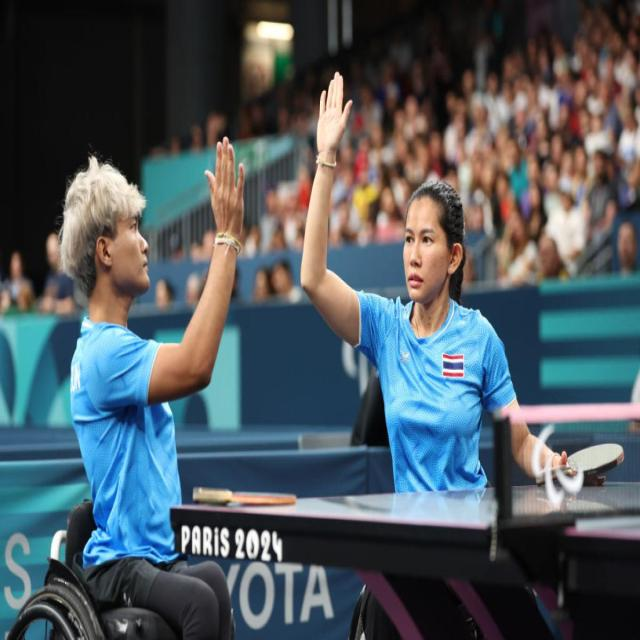TT Net: (494, 400, 639, 540)
TT Racket: (562, 435, 628, 486), (227, 489, 300, 512)
TT Table: (174, 475, 639, 545)
